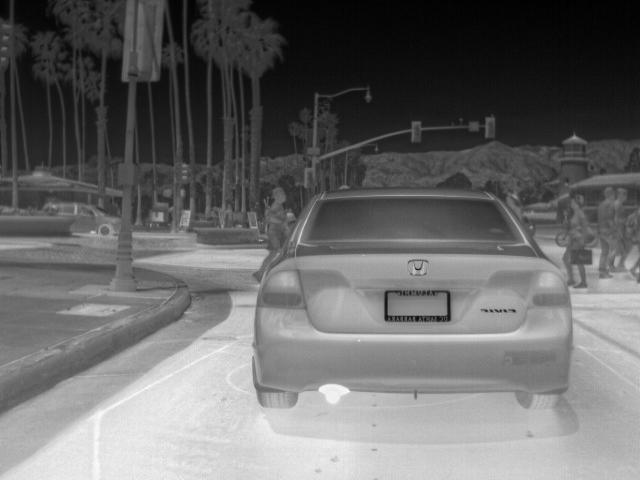car: (248, 186, 572, 412), (41, 200, 122, 236)
person: (252, 186, 294, 280), (558, 195, 594, 291), (593, 184, 623, 279), (505, 192, 528, 222), (615, 185, 631, 220)
